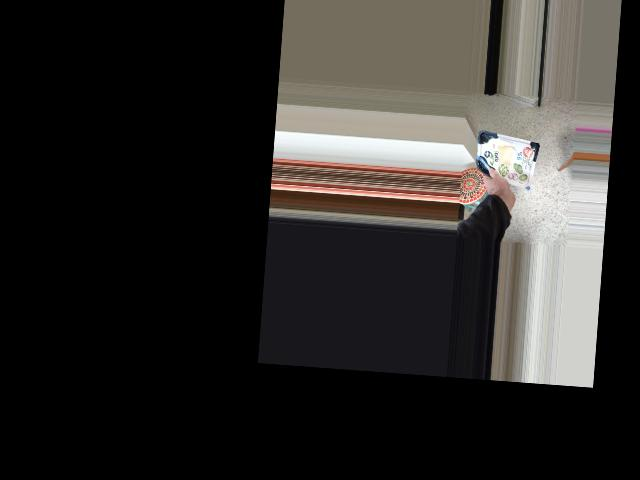cheese: (484, 147, 537, 199)
